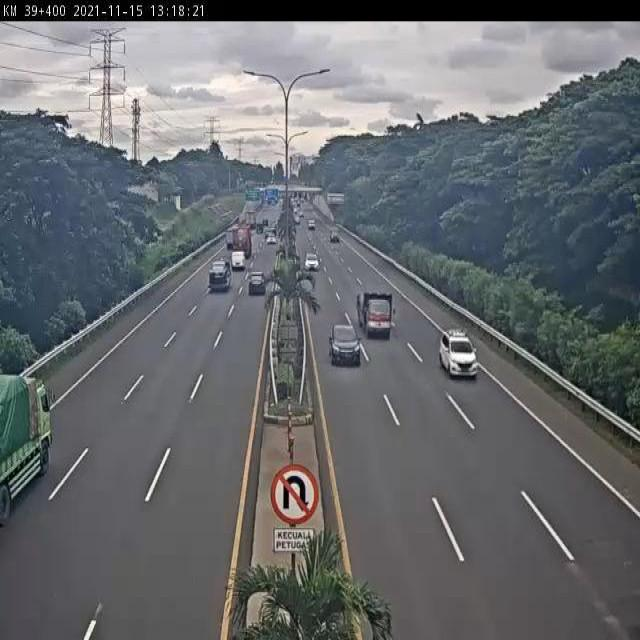car: (440, 328, 481, 381), (329, 322, 363, 366), (247, 271, 267, 296)
truck-m-: (0, 368, 55, 520), (355, 290, 395, 338), (207, 259, 232, 292)
